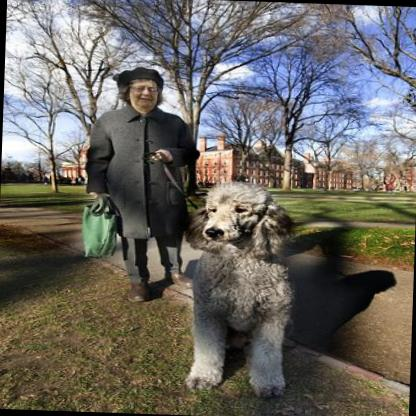standard_poodle: (164, 172, 314, 400)
